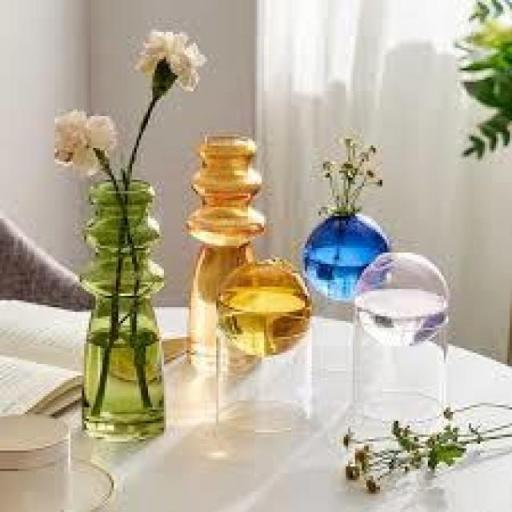glass: (74, 176, 174, 457), (208, 254, 323, 438), (183, 133, 266, 367), (354, 252, 451, 346), (302, 213, 389, 301)
